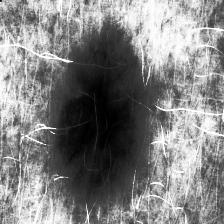Benign Marking or Mole: (55, 31, 143, 197)
